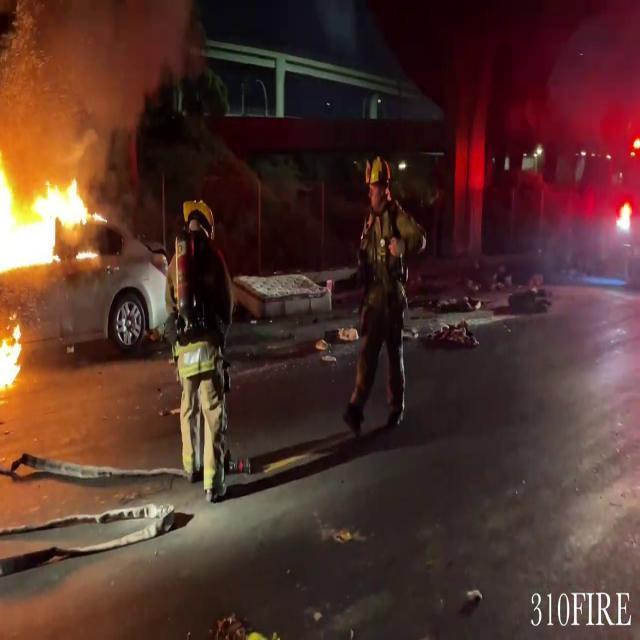Fire: (0, 130, 102, 392), (0, 130, 102, 292), (0, 318, 32, 403)
Smoke: (0, 0, 198, 153)
